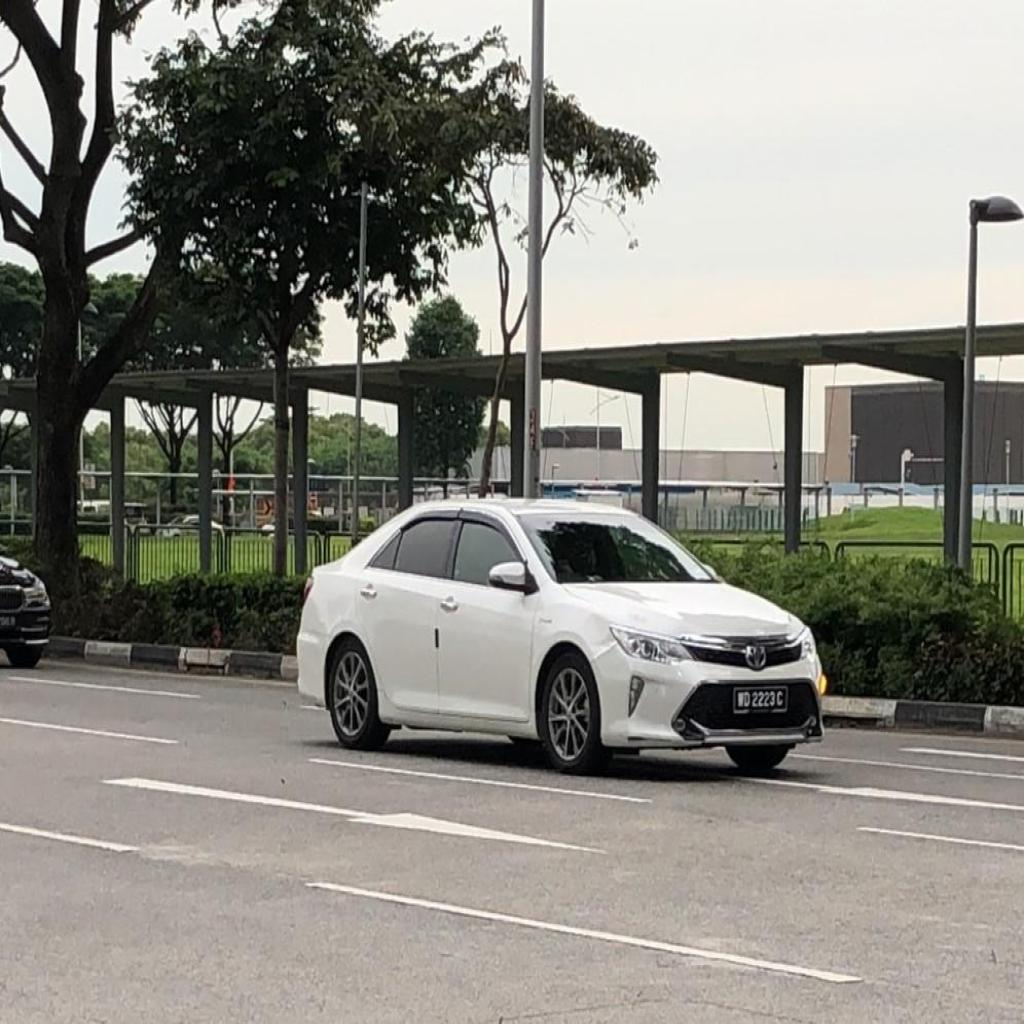car: (296, 499, 824, 769)
car plate: (732, 685, 785, 713)
